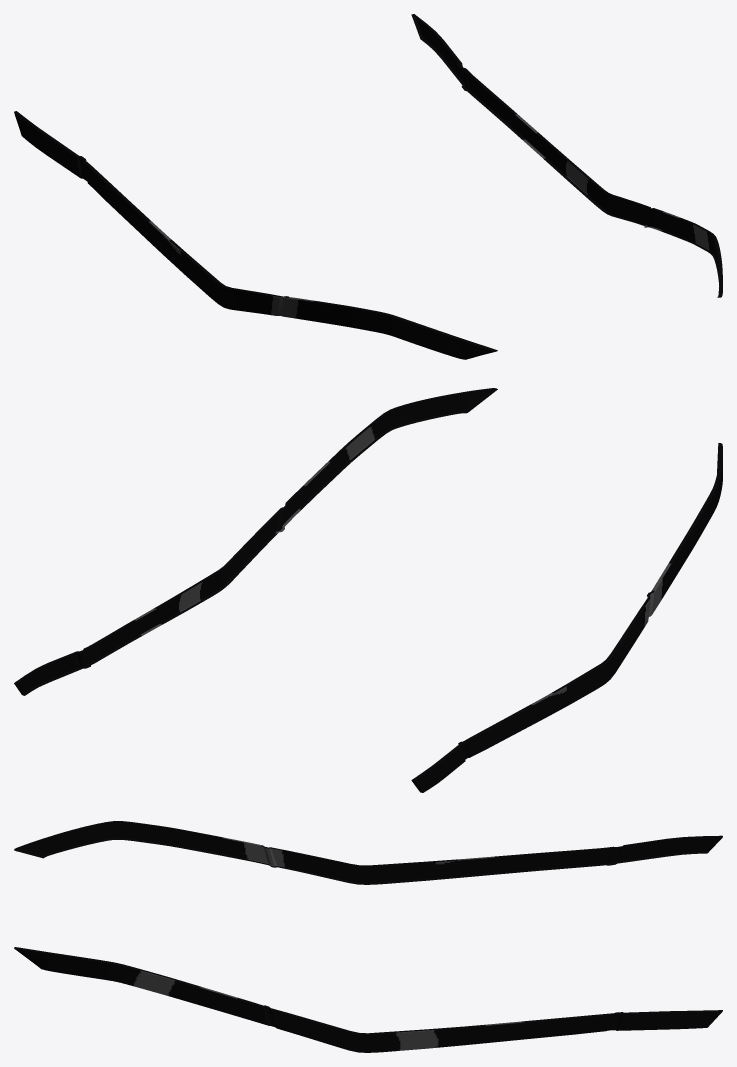
The picture shows the model from 3 angles, top to bottom: view 1: azimuth 30°, elevation 25°; view 2: azimuth 150°, elevation 25°; view 3: azimuth 270°, elevation 25°; orthographic projection. The views are drawn at different scales.
Parts seen in each view (by area): view 1: _20_side_bumpers; view 2: _20_side_bumpers; view 3: _20_side_bumpers.
Boxes of the visible parts, bbox=[...] form: _20_side_bumpers: bbox=[14, 14, 722, 359]; _20_side_bumpers: bbox=[14, 388, 722, 792]; _20_side_bumpers: bbox=[14, 821, 722, 1052].
Size of the model in its own units: 0.5224 by 0.8876 by 0.1055.
